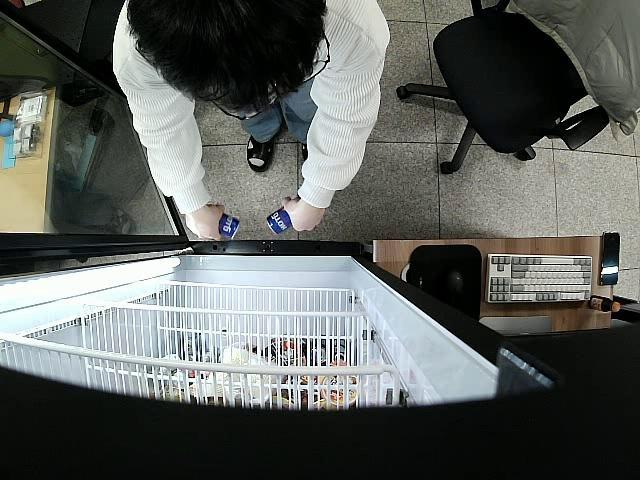16_hot6: (265, 206, 290, 238), (219, 213, 240, 242)
